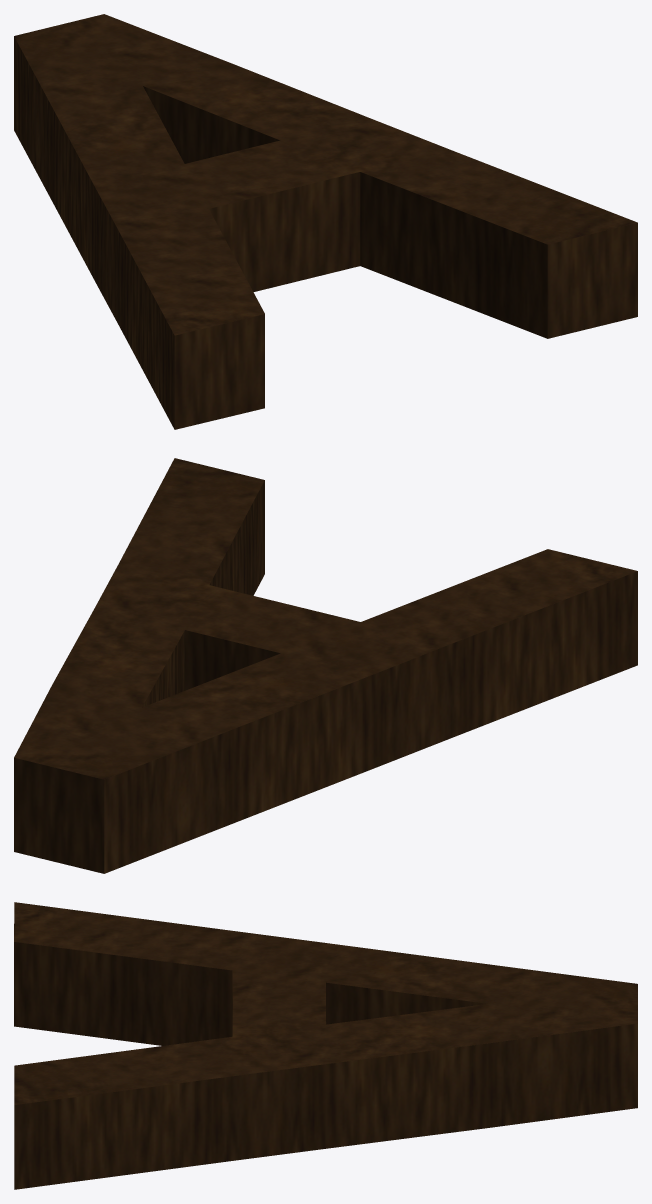
File: LetterA.obj
The picture shows the model from 3 angles, top to bottom: view 1: azimuth 30°, elevation 25°; view 2: azimuth 150°, elevation 25°; view 3: azimuth 270°, elevation 25°; orthographic projection. The views are drawn at different scales.
Visible parts, largest first — view 1: LetterA; view 2: LetterA; view 3: LetterA.
Part boxes in pixels (x1,y1,x2,y2): LetterA: [14, 14, 637, 429]; LetterA: [14, 458, 637, 873]; LetterA: [14, 902, 637, 1189].
Size of the model in its own units: 0.77 by 0.15 by 1.
